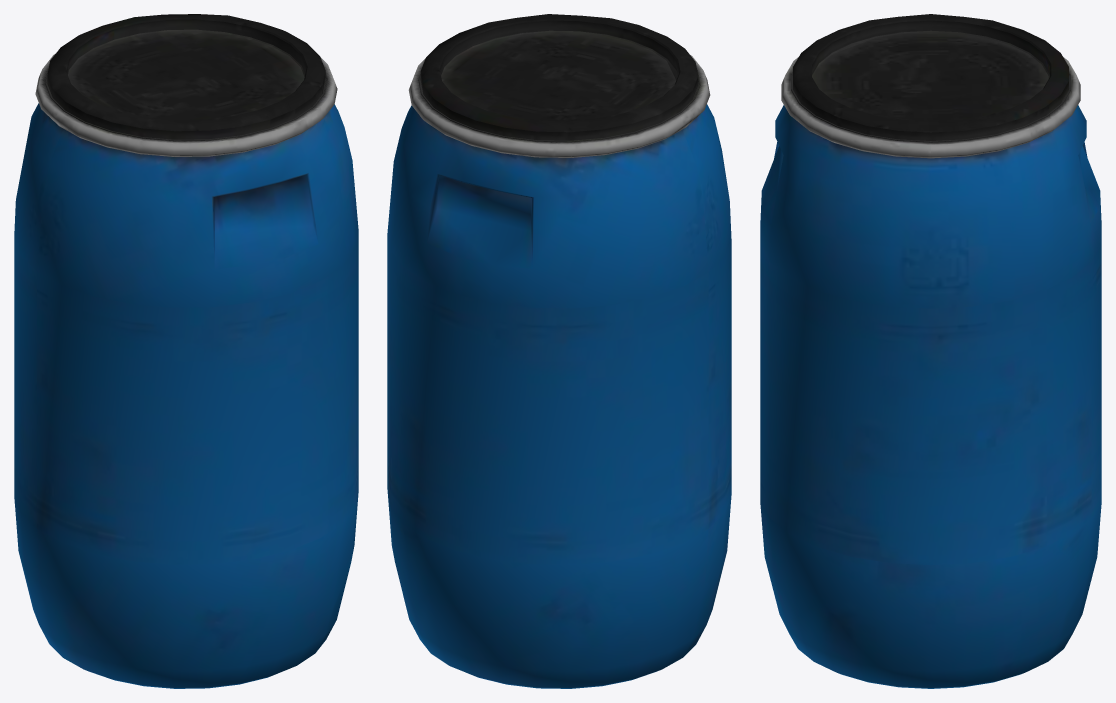
Rendered from Barrel_02.glb.
The picture shows the model from 3 angles, left to right: view 1: azimuth 30°, elevation 25°; view 2: azimuth 150°, elevation 25°; view 3: azimuth 270°, elevation 25°; orthographic projection.
Parts seen in each view (by area): view 1: Barrel_02; view 2: Barrel_02; view 3: Barrel_02.
Boxes of the visible parts, bbox=[...] form: Barrel_02: bbox=[14, 14, 358, 688]; Barrel_02: bbox=[387, 14, 731, 688]; Barrel_02: bbox=[760, 14, 1101, 688].
Bounding box in the file's own units: 0.4882 × 0.88 × 0.4846.
1 material, 1 textured.
